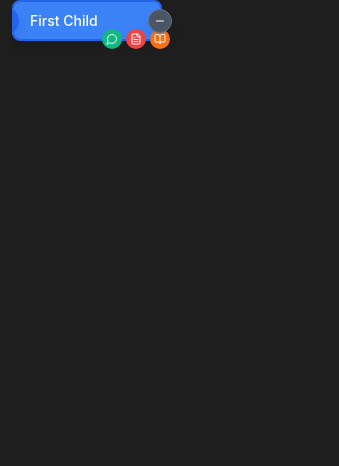
Scenario: MindMapNode › context menu › should show context menu on right click
This screenshot has width=339, height=466.
Right-click the element showing "First Child" at (87, 20), box [12,0,162,41]
Wait 600 ms
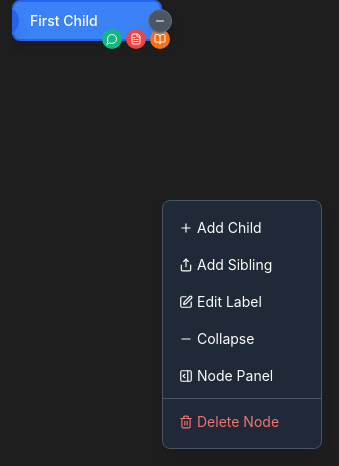
expect the button "Add Child" is shown: met, box [163,209,321,246]
expect the button "Add Sibling" is shown: met, box [163,246,321,283]
expect the button "Edit Label" is shown: met, box [163,283,321,320]
